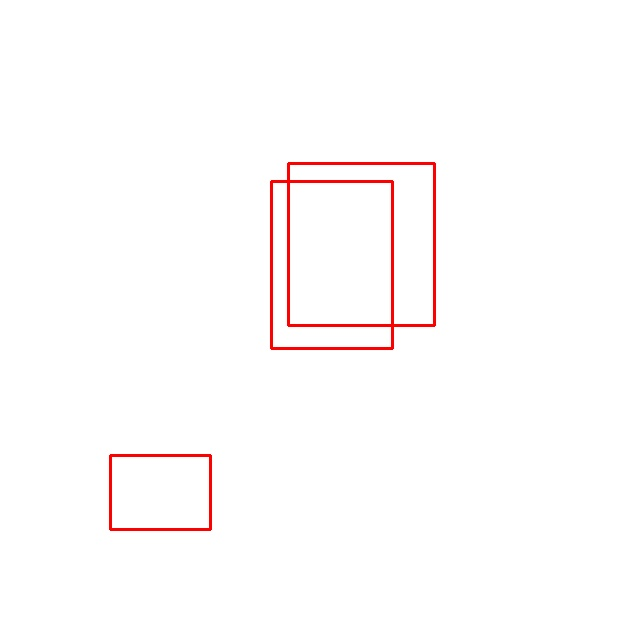weapon: (288, 163, 435, 325), (271, 182, 392, 348), (111, 455, 211, 529)
